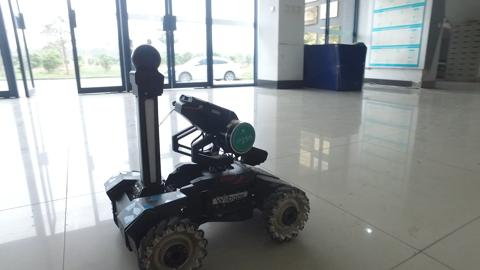chariot: (95, 44, 318, 270)
